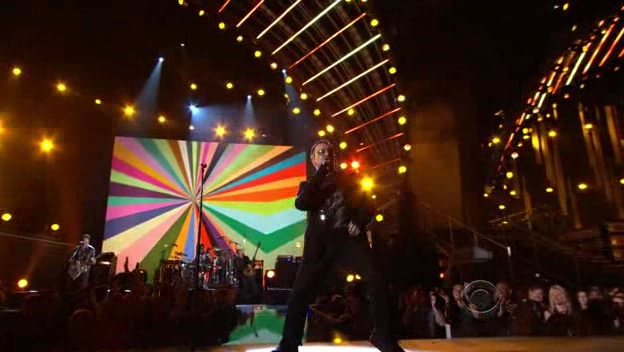person: (297, 146, 362, 264), (294, 146, 359, 264), (300, 146, 365, 264), (297, 143, 362, 261), (297, 149, 362, 267)
target_negative: (414, 196, 605, 302), (165, 62, 515, 115), (373, 99, 425, 221), (515, 244, 552, 267), (459, 99, 564, 104), (601, 120, 618, 127)
